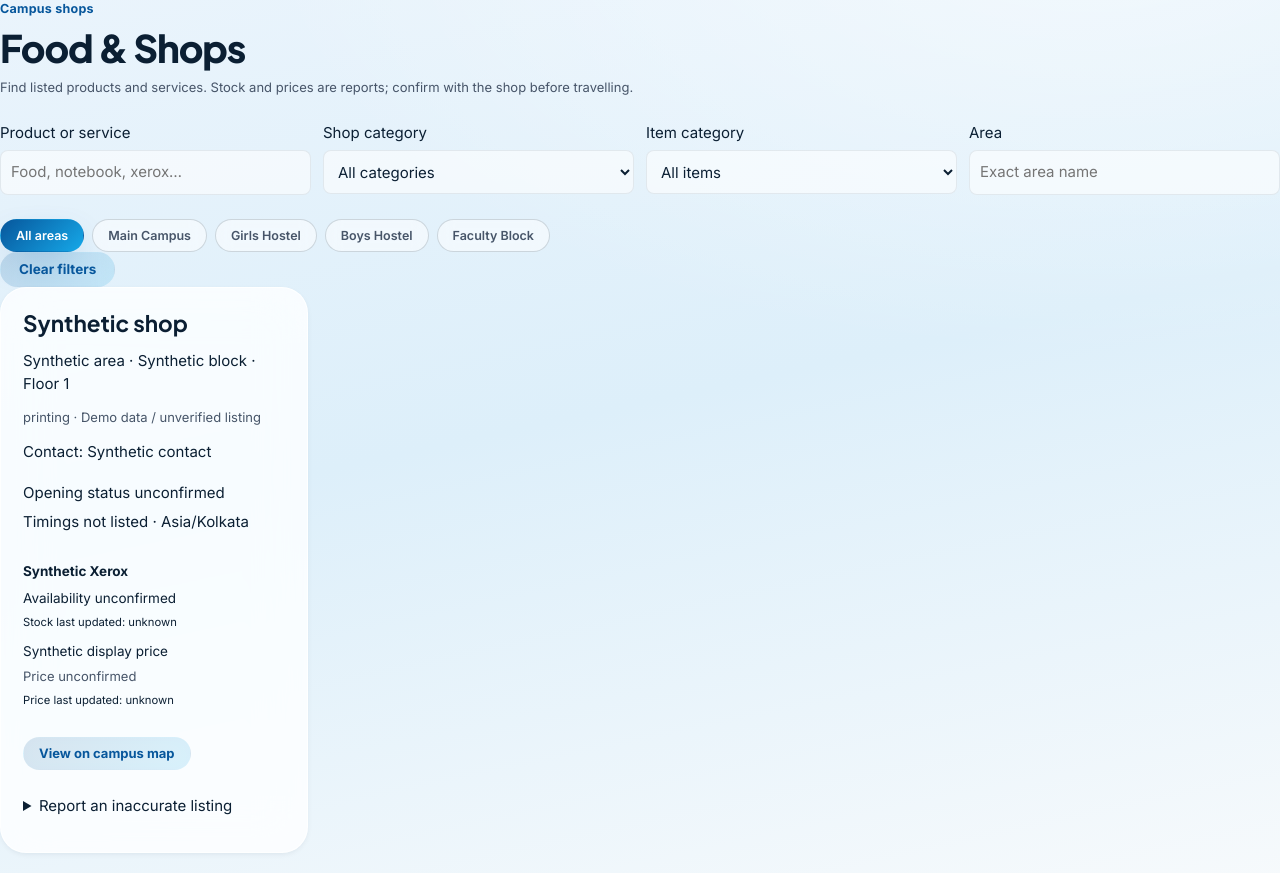
Scenario: Canteen searches products with category filters and shows honest legacy stock, price and location
This screenshot has width=1280, height=873.
Expected: the heading "Synthetic shop" is shown, [23, 309, 188, 337]
Expected: the text "Availability unconfirmed" is shown, [23, 588, 177, 608]
In the search field labelled "Product or service": [156, 173] box [0, 150, 311, 195], type "xerox"
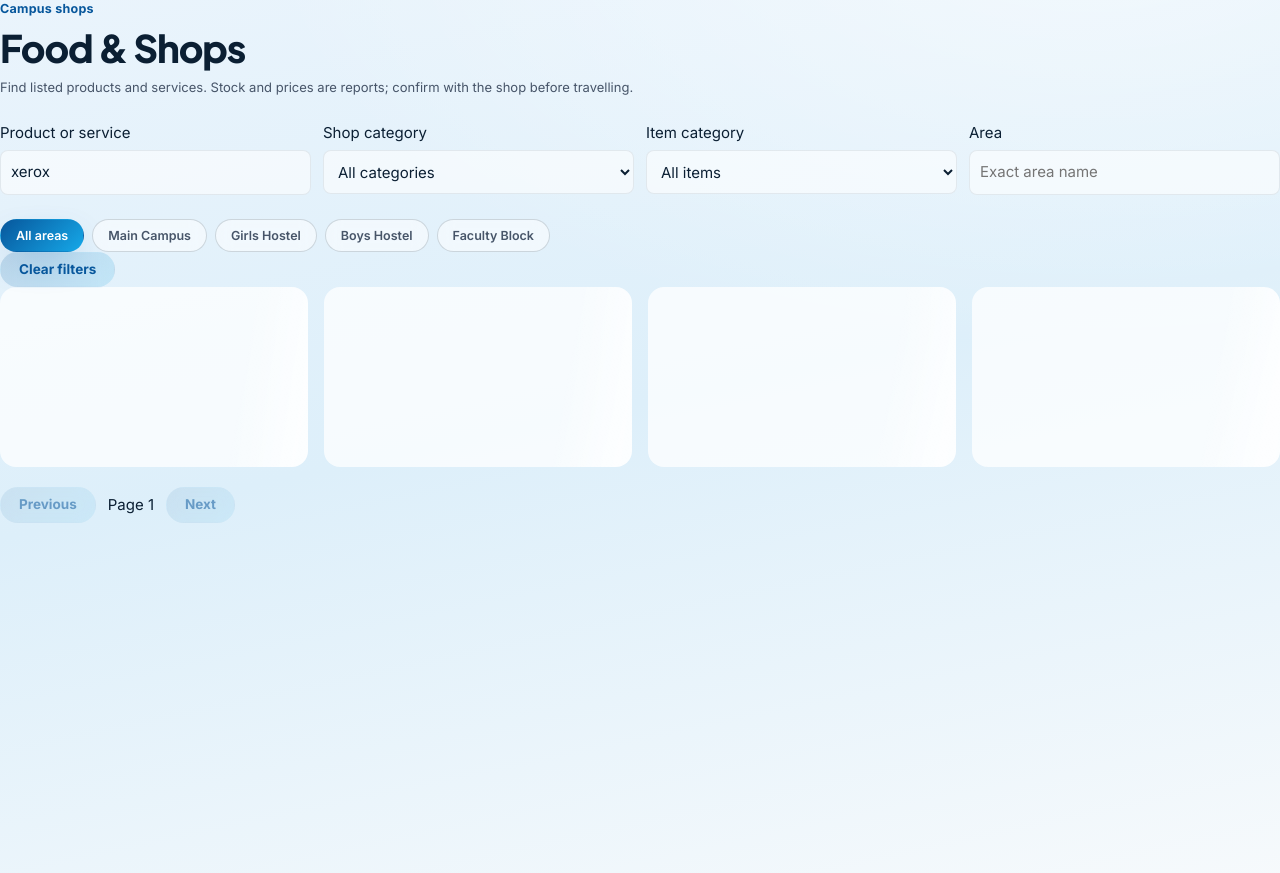
Select "printing" in the dropdown labelled "Item category": [802, 172] box [646, 150, 957, 194]
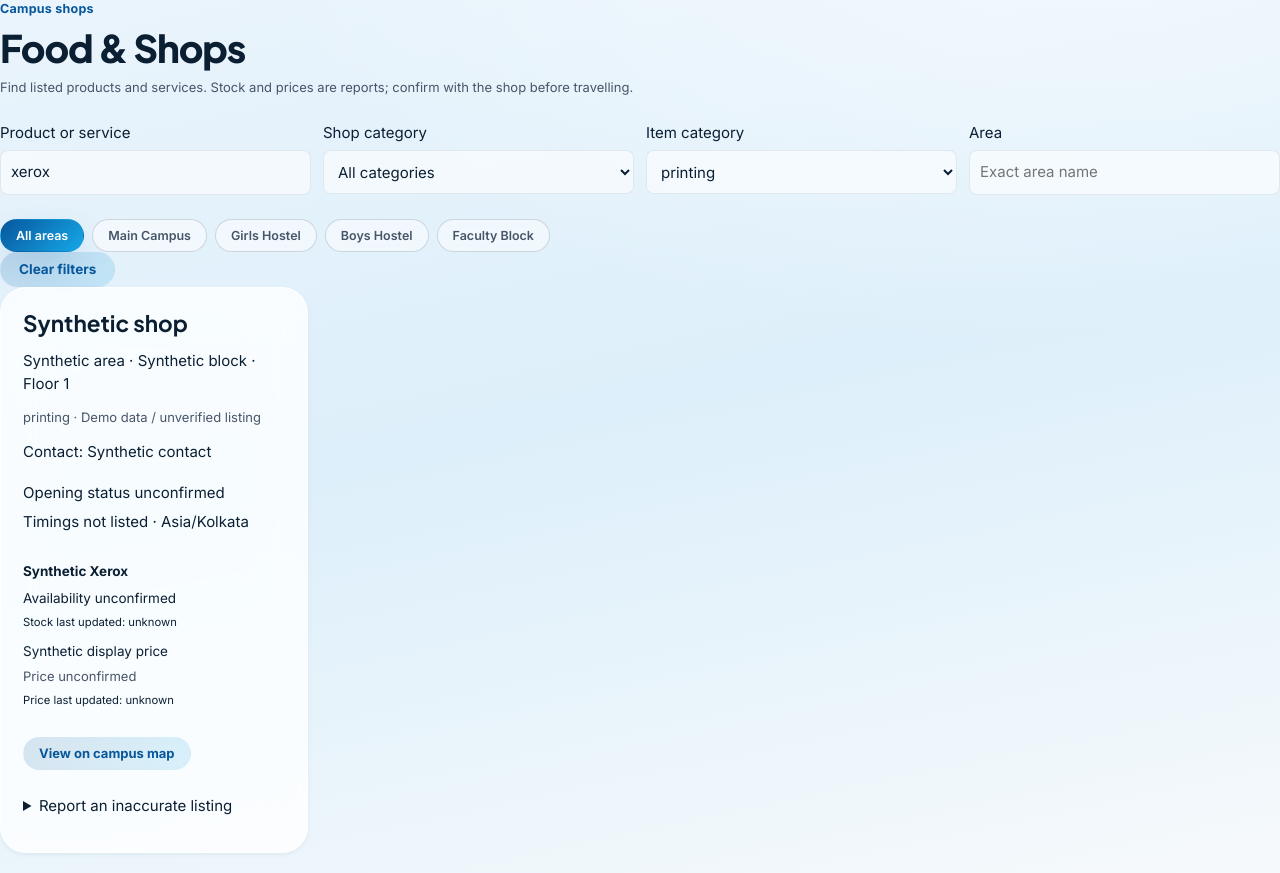
Now the button "View on campus map" is shown, box [23, 737, 190, 770]
